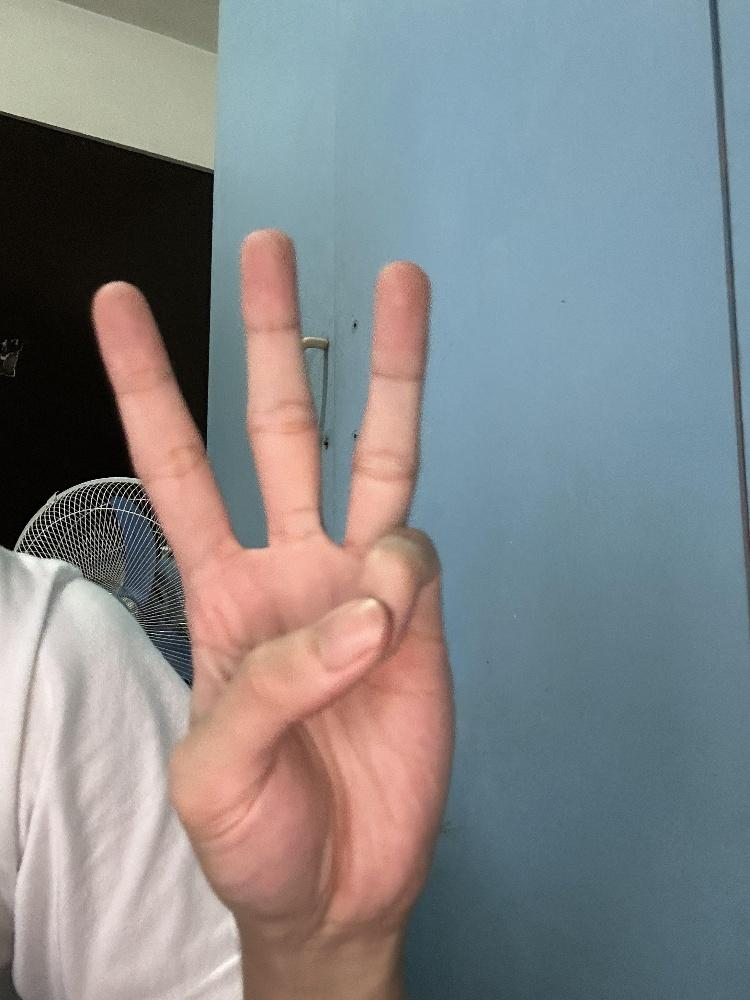w: (88, 221, 462, 943)
